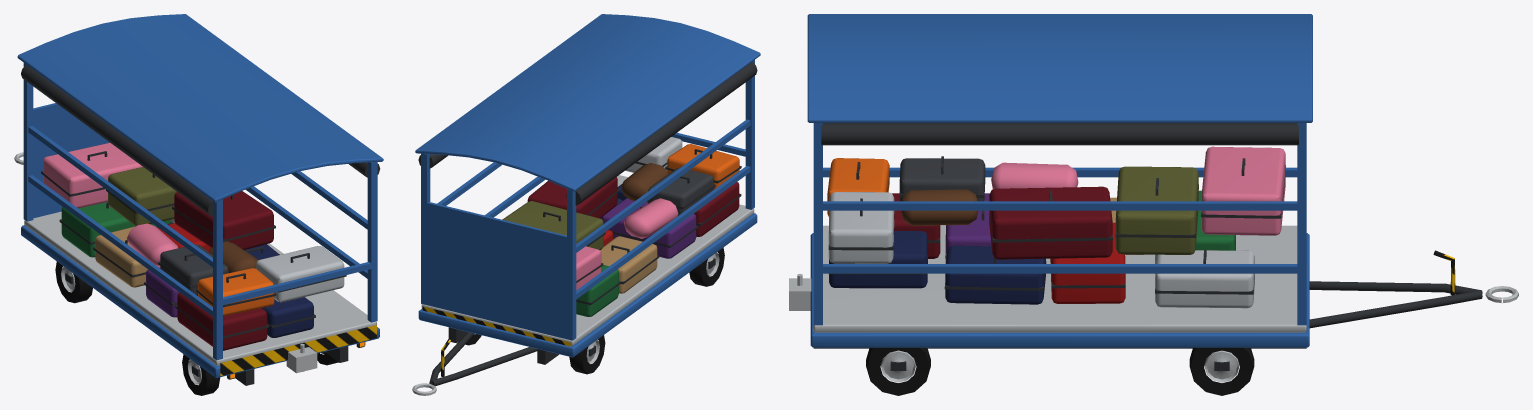
Rendered from baggage_cart.glb.
3 renders of one model, left to right at view 1: azimuth 30°, elevation 25°; view 2: azimuth 150°, elevation 25°; view 3: azimuth 270°, elevation 25°, orthographic. The views are drawn at different scales.
Parts seen in each view (by area): view 1: Body, Wheels; view 2: Body, Wheels; view 3: Body, Wheels.
Part boxes in pixels (bbox=[...]): Body: bbox=[14, 14, 383, 385]; Wheels: bbox=[55, 261, 338, 395]; Body: bbox=[412, 14, 760, 395]; Wheels: bbox=[465, 247, 724, 374]; Body: bbox=[789, 14, 1518, 370]; Wheels: bbox=[866, 347, 1254, 395].
Size of what is drawn, in the model's own units: 1.65 by 2.15 by 4.74.
7 materials, 3 textured.
